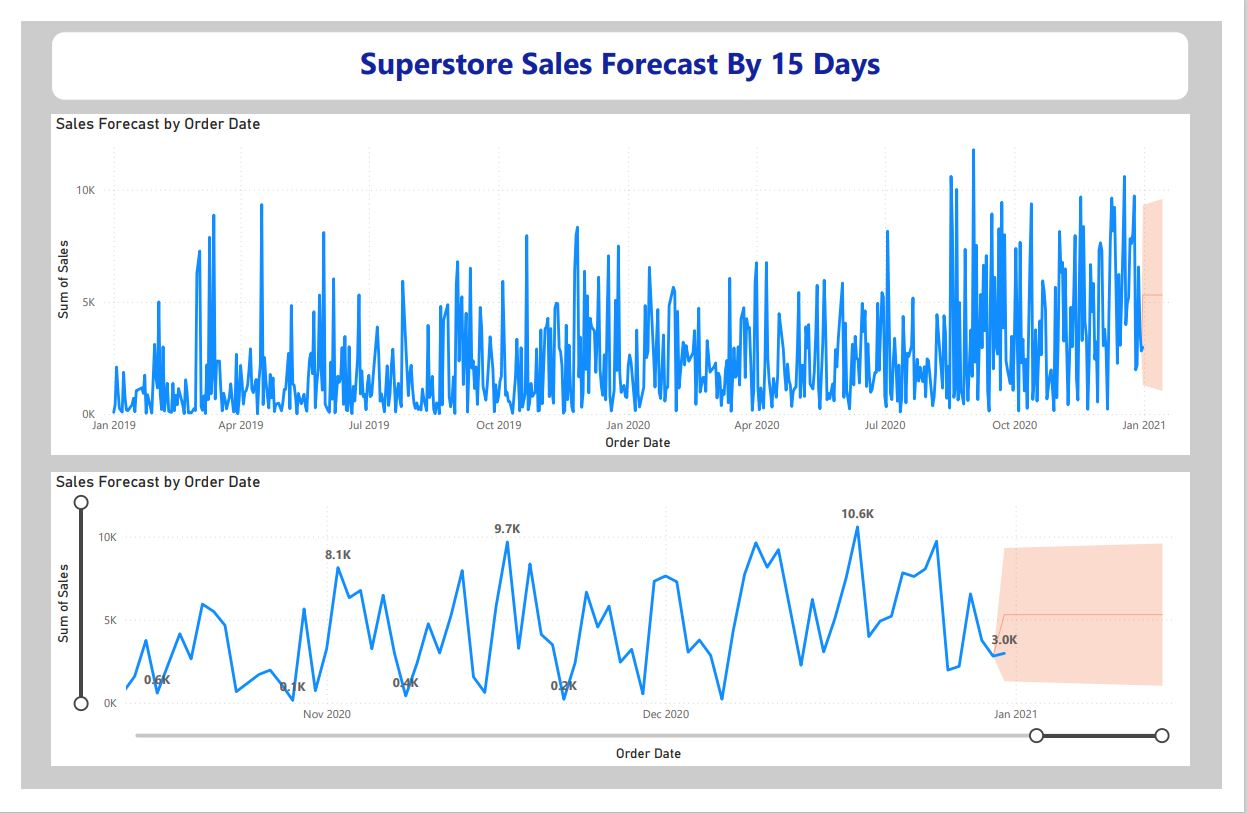

Layout of this report page (visuals, bound fields, positions):
{"tool":"powerbi","page":{"name":"Page 2","canvas":[1280,820],"ordinal":1},"visuals":[{"type":"lineChart","title":"Sales Forecast by Order Date","fields":{"Y":["Sum(Sheet1.Sales)"],"Category":["Sheet1.Order Date"]},"box":[31.6,98.7,1214.5,364.5],"z":0},{"type":"lineChart","title":"Sales Forecast by Order Date","fields":{"Y":["Sum(Sheet1.Sales)"],"Category":["Sheet1.Order Date"]},"box":[31.6,481.6,1214.5,313.2],"z":1},{"type":"textbox","box":[31.6,10.5,1214.5,73.7],"z":2}]}

Visuals, with their boxes in screenshot pixels (x1, y1, x2, y2), scaled from the page's 1280x820 canvas onto the 1247x813 screenshot:
"Sales Forecast by Order Date" lineChart: pyautogui.locateOnScreen(31, 98, 1214, 459)
"Sales Forecast by Order Date" lineChart: pyautogui.locateOnScreen(31, 477, 1214, 788)
textbox: pyautogui.locateOnScreen(31, 10, 1214, 83)
